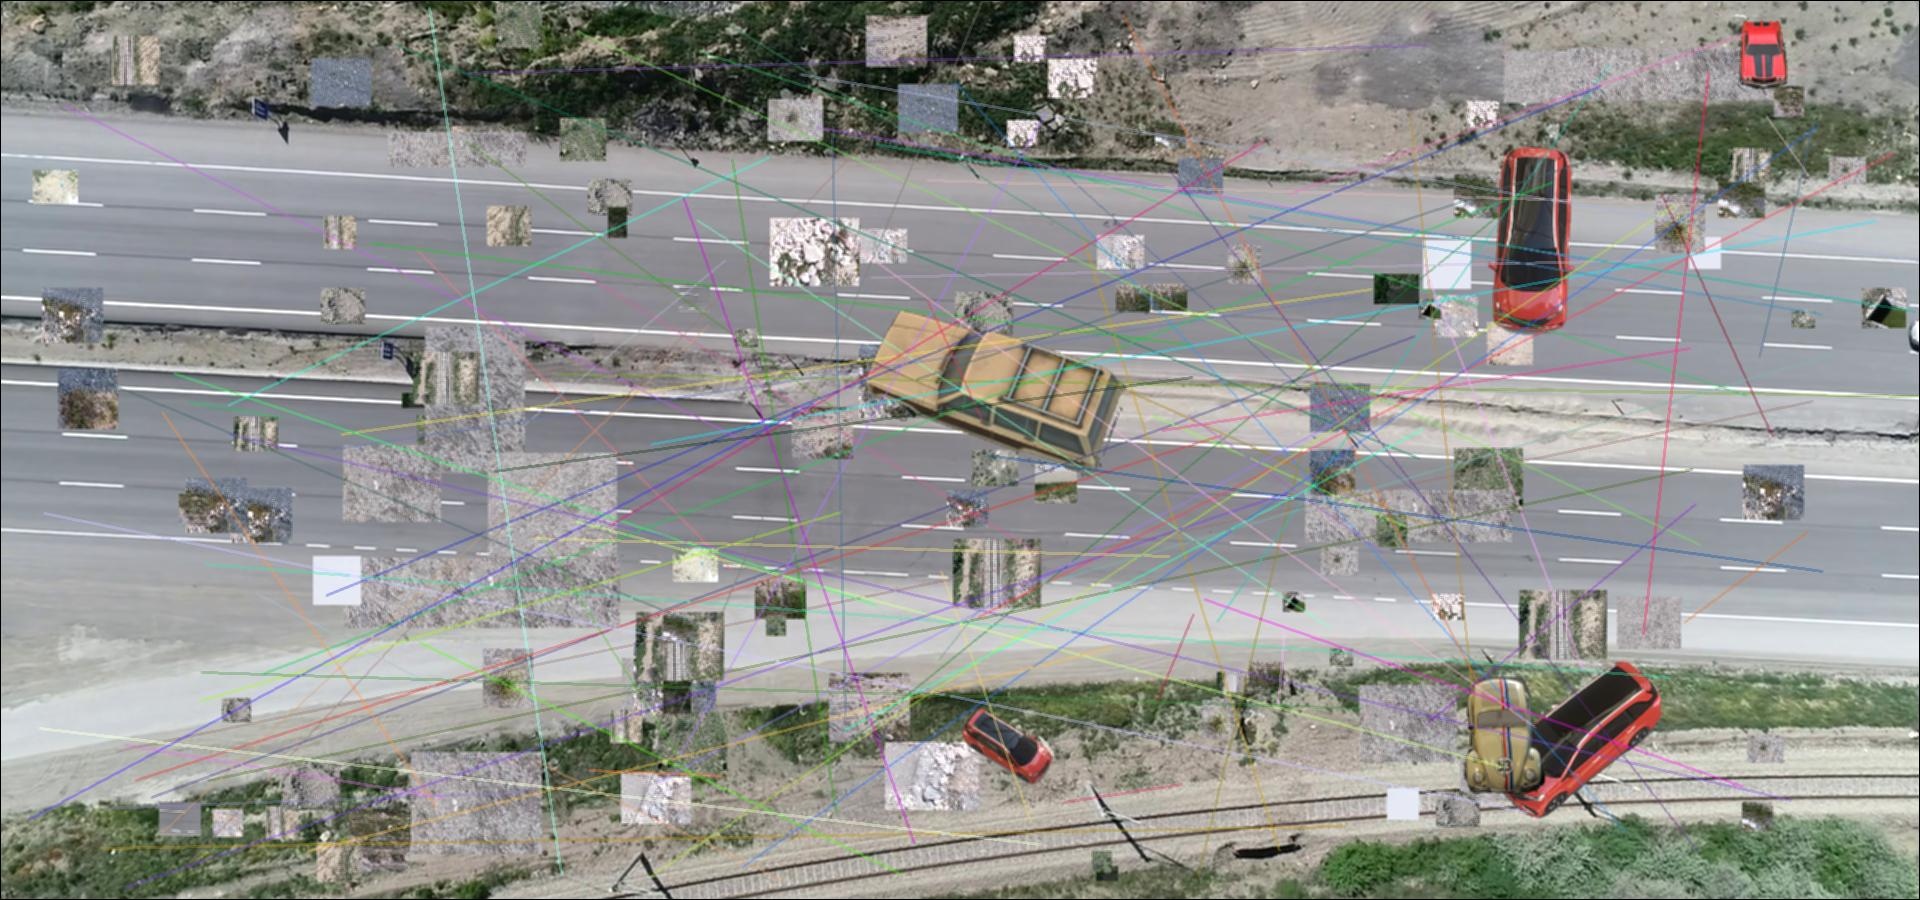arac: (862, 301, 1128, 486), (1469, 662, 1664, 819), (1483, 144, 1577, 338), (1463, 677, 1547, 793), (962, 704, 1052, 784), (1736, 20, 1791, 92)
